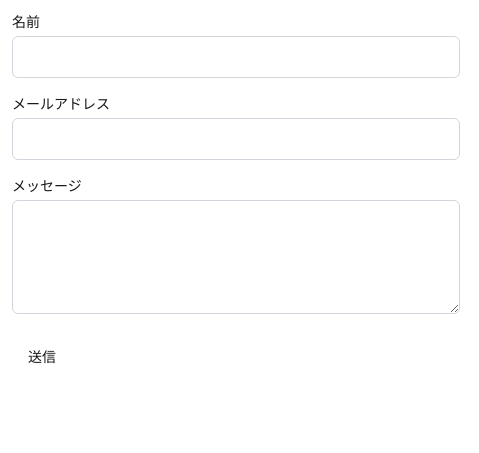
Scenario: ContactForm コンポーネント › バリデーションエラーが表示される
The image size is (479, 453).
Click the button "送信" at (42, 357), box left=12, top=337, right=72, bottom=377
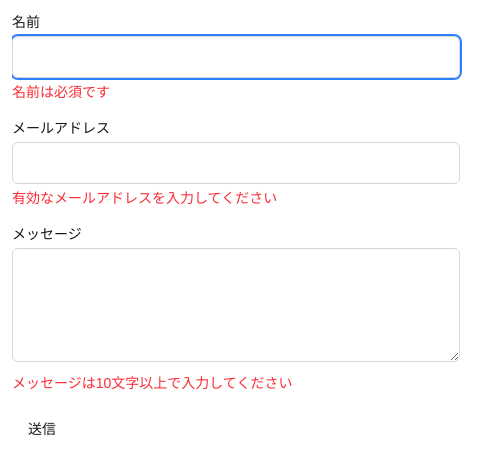
Expected: the text "名前は必須です" is shown, left=12, top=84, right=110, bottom=100
